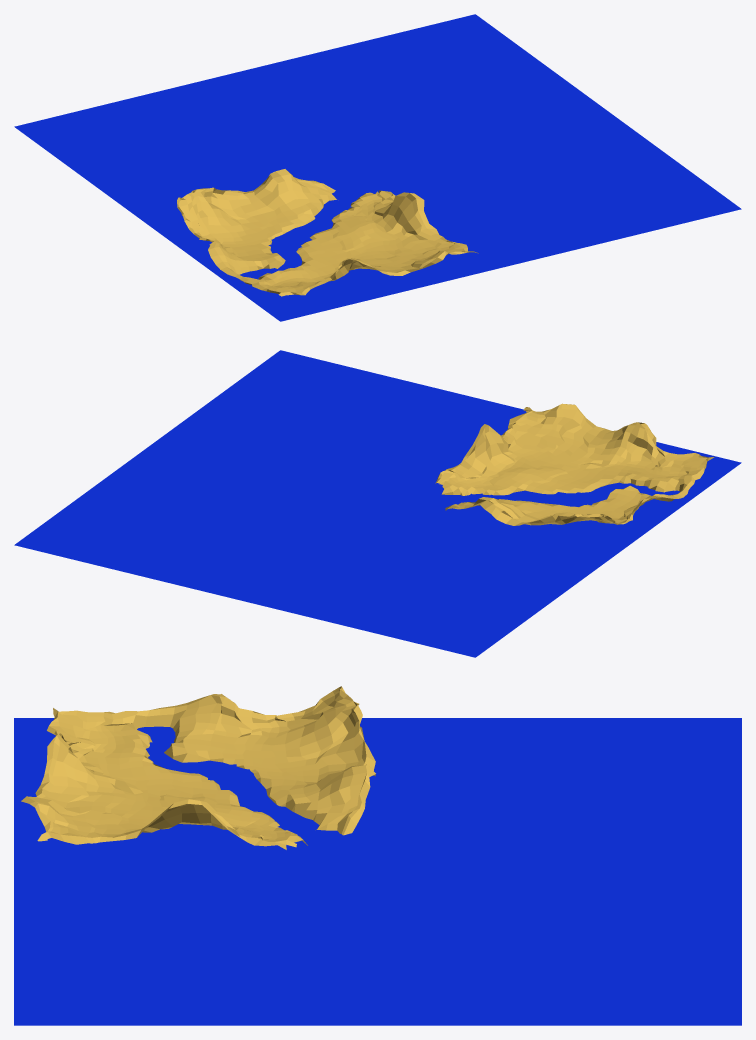
Rendered from landscape.glb.
3 renders of one model, top to bottom at view 1: azimuth 30°, elevation 25°; view 2: azimuth 150°, elevation 25°; view 3: azimuth 270°, elevation 25°, orthographic. The views are drawn at different scales.
Visible parts, largest first — view 1: Plane.002, Plane; view 2: Plane.002, Plane; view 3: Plane.002, Plane.
Boxes of the visible parts, bbox=[...] form: Plane.002: bbox=[14, 14, 741, 321]; Plane: bbox=[177, 169, 478, 296]; Plane.002: bbox=[14, 350, 741, 657]; Plane: bbox=[435, 403, 714, 525]; Plane.002: bbox=[14, 718, 741, 1025]; Plane: bbox=[21, 686, 375, 849].
Size of the model in its own units: 848 by 127 by 846.
